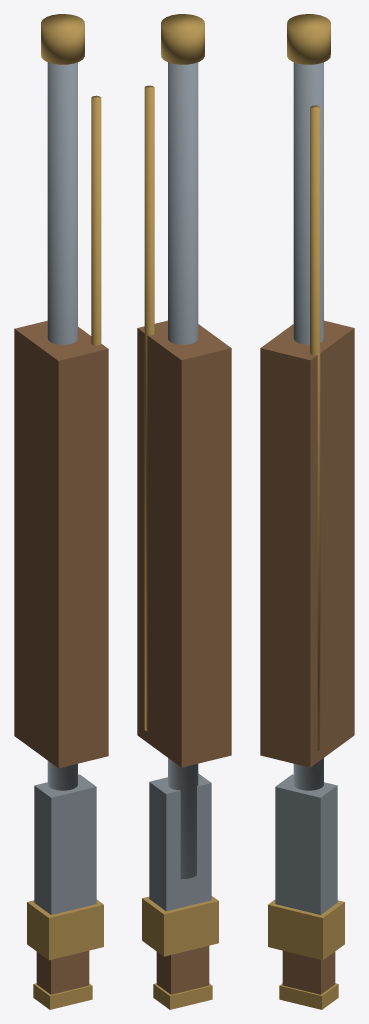
File: musket-minimal-control.fbx
3 views of the same model, side by side, from view 1: azimuth 30°, elevation 25°; view 2: azimuth 210°, elevation 25°; view 3: azimuth 330°, elevation 25° (orthographic).
Parts seen in each view (by area): view 1: ForeEnd, Barrel, Lock, Furniture, Ramrod, MuzzleBand, Stock, ButtCap; view 2: ForeEnd, Barrel, Lock, Ramrod, Furniture, Stock, MuzzleBand, ButtCap; view 3: ForeEnd, Lock, Barrel, Ramrod, Furniture, MuzzleBand, Stock, ButtCap.
Boxes of the visible parts, x1=… form: ForeEnd: x1=14, y1=320, x2=108, y2=768; Barrel: x1=47, y1=62, x2=77, y2=790; Lock: x1=34, y1=774, x2=96, y2=914; Furniture: x1=27, y1=899, x2=103, y2=960; Ramrod: x1=91, y1=95, x2=101, y2=345; MuzzleBand: x1=41, y1=14, x2=84, y2=64; Stock: x1=36, y1=950, x2=89, y2=994; ButtCap: x1=33, y1=983, x2=92, y2=1009; ForeEnd: x1=137, y1=320, x2=231, y2=767; Barrel: x1=168, y1=62, x2=198, y2=878; Lock: x1=149, y1=773, x2=211, y2=911; Ramrod: x1=144, y1=85, x2=154, y2=731; Furniture: x1=142, y1=896, x2=218, y2=956; Stock: x1=156, y1=946, x2=209, y2=994; MuzzleBand: x1=161, y1=14, x2=204, y2=64; ButtCap: x1=153, y1=983, x2=212, y2=1009; ForeEnd: x1=260, y1=320, x2=354, y2=767; Lock: x1=275, y1=774, x2=337, y2=914; Barrel: x1=293, y1=62, x2=323, y2=790; Ramrod: x1=310, y1=105, x2=320, y2=750; Furniture: x1=268, y1=899, x2=344, y2=960; MuzzleBand: x1=287, y1=14, x2=330, y2=64; Stock: x1=282, y1=950, x2=335, y2=994; ButtCap: x1=279, y1=983, x2=338, y2=1009.
Bounding box in the file's own units: 0.075 × 1.27 × 0.104.
